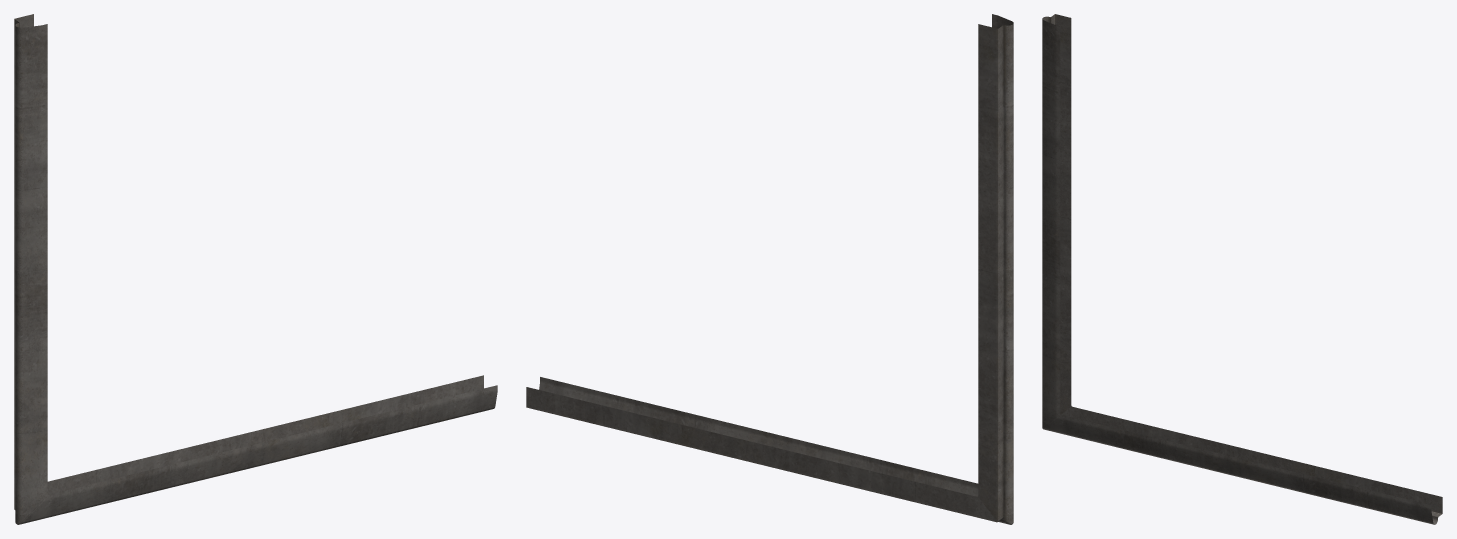
File: cornice01_standard_corner_large_01.gltf
3 views of the same model, side by side, from view 1: azimuth 30°, elevation 25°; view 2: azimuth 150°, elevation 25°; view 3: azimuth 330°, elevation 25° (orthographic). The views are drawn at different scales.
Parts seen in each view (by area): view 1: cornice01_standard_corner_large_01; view 2: cornice01_standard_corner_large_01; view 3: cornice01_standard_corner_large_01.
Boxes of the visible parts, <box> form: cornice01_standard_corner_large_01: <box>14,14,497,524</box>; cornice01_standard_corner_large_01: <box>526,14,1013,524</box>; cornice01_standard_corner_large_01: <box>1042,14,1442,524</box>.
Size of the model in its own units: 3.07 by 3.07 by 0.152.
1 material, 1 textured.
